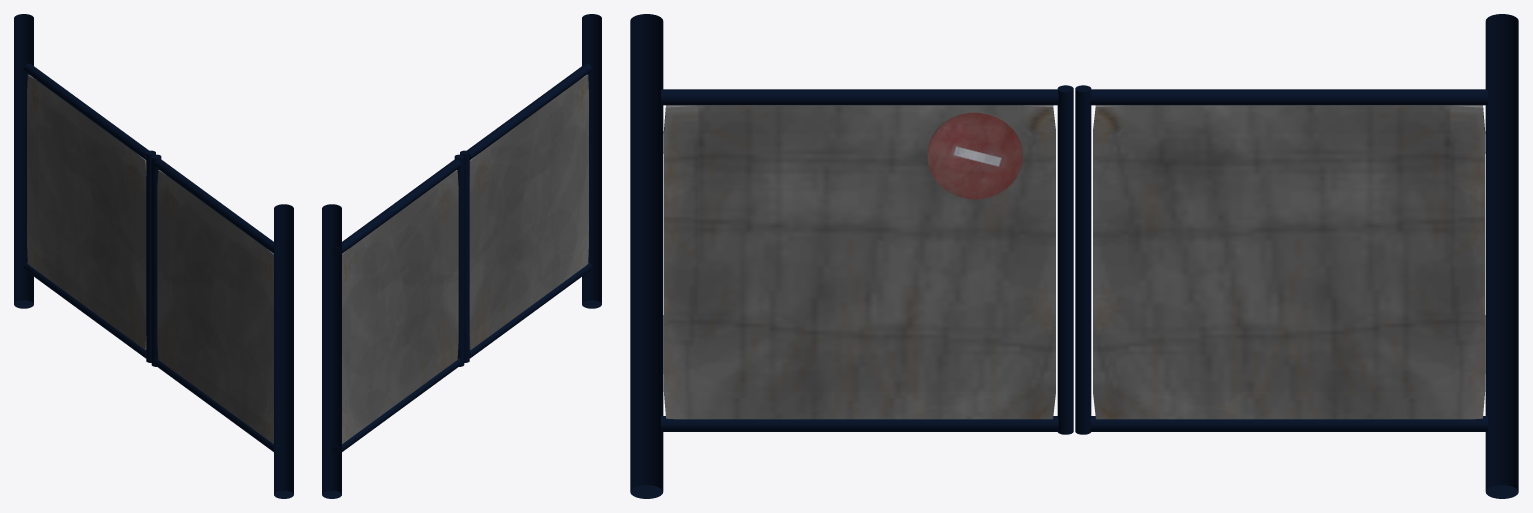
File: vorota.fbx
3 views of the same model, side by side, from view 1: azimuth 30°, elevation 25°; view 2: azimuth 150°, elevation 25°; view 3: azimuth 270°, elevation 25° (orthographic). The views are drawn at different scales.
Visible parts, largest first — view 1: Куб.004, Куб.001, Куб.002, Куб.003, Цилиндр, Цилиндр.006, Цилиндр.002, Цилиндр.004, Цилиндр.001, Цилиндр.005; view 2: Куб.001, Куб.004, Куб.003, Куб.002, Цилиндр.006, Цилиндр, Цилиндр.004, Цилиндр.002, Цилиндр.005, Цилиндр.001; view 3: Куб.004, Куб.001, Куб.002, Куб.003, Цилиндр, Цилиндр.006, Цилиндр.003, Цилиндр.002, Цилиндр.004, Цилиндр.001, Цилиндр.005.
Part boxes in pixels (left/top/right/bottom): Куб.004: left=27, top=74, right=146, bottom=349; Куб.001: left=157, top=170, right=273, bottom=443; Куб.002: left=274, top=204, right=293, bottom=498; Куб.003: left=14, top=14, right=33, bottom=308; Цилиндр: left=154, top=159, right=283, bottom=256; Цилиндр.006: left=24, top=63, right=148, bottom=159; Цилиндр.002: left=151, top=154, right=161, bottom=366; Цилиндр.004: left=146, top=150, right=155, bottom=362; Цилиндр.001: left=154, top=358, right=283, bottom=454; Цилиндр.005: left=24, top=262, right=146, bottom=358; Куб.001: left=469, top=74, right=588, bottom=349; Куб.004: left=342, top=170, right=458, bottom=443; Куб.003: left=322, top=204, right=341, bottom=498; Куб.002: left=582, top=14, right=601, bottom=308; Цилиндр.006: left=332, top=159, right=461, bottom=256; Цилиндр: left=467, top=63, right=591, bottom=159; Цилиндр.004: left=454, top=154, right=464, bottom=366; Цилиндр.002: left=460, top=150, right=469, bottom=362; Цилиндр.005: left=332, top=358, right=461, bottom=454; Цилиндр.001: left=469, top=262, right=591, bottom=358; Куб.004: left=1093, top=105, right=1485, bottom=419; Куб.001: left=663, top=105, right=1055, bottom=419; Куб.002: left=630, top=14, right=663, bottom=498; Куб.003: left=1485, top=14, right=1518, bottom=498; Цилиндр: left=661, top=89, right=1058, bottom=105; Цилиндр.006: left=1090, top=89, right=1487, bottom=105; Цилиндр.003: left=927, top=112, right=1022, bottom=199; Цилиндр.002: left=1057, top=85, right=1073, bottom=434; Цилиндр.004: left=1075, top=85, right=1091, bottom=434; Цилиндр.001: left=661, top=416, right=1058, bottom=431; Цилиндр.005: left=1090, top=416, right=1487, bottom=431.
Size of the model in its own units: 18.88 by 299 by 511.
4 materials, 2 textured.
